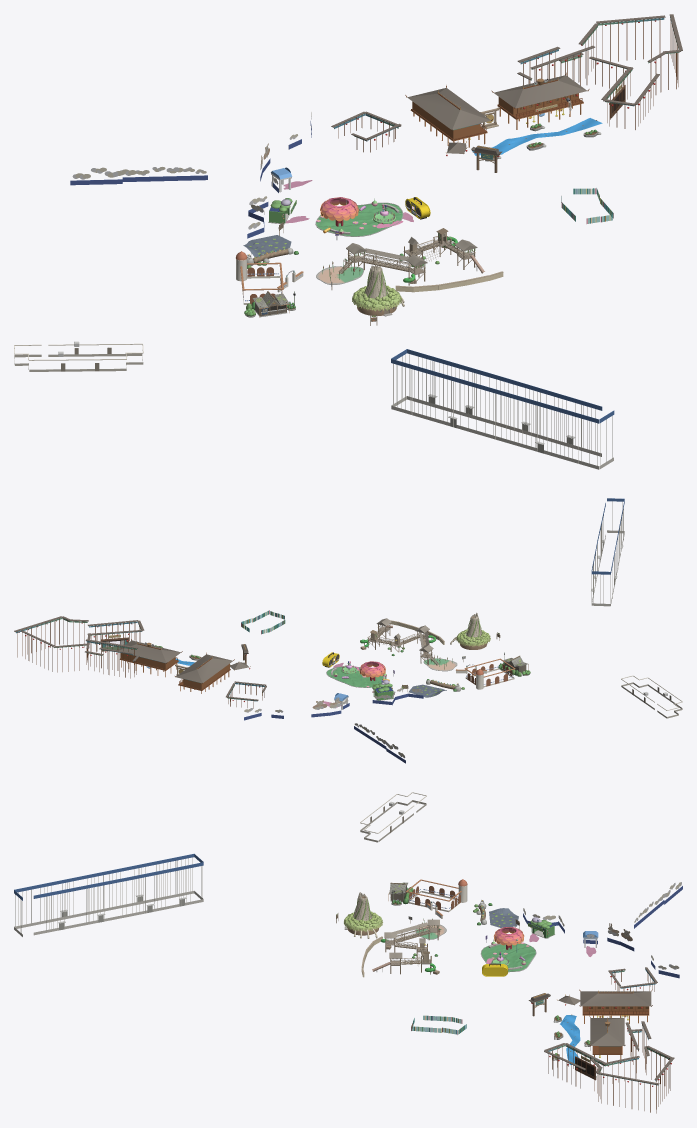
File: dreamworks-play.glb
3 renders of one model, top to bottom at view 1: azimuth 30°, elevation 25°; view 2: azimuth 150°, elevation 25°; view 3: azimuth 270°, elevation 25°, orthographic. The views are drawn at different scales.
Visible parts, largest first — view 1: dreamworks-play-paint, dreamworks-play-concrete, dreamworks-play-rubber, dreamworks-play-gloss, dreamworks-play-plant, dreamworks-play-metal; view 2: dreamworks-play-paint, dreamworks-play-concrete, dreamworks-play-gloss, dreamworks-play-rubber, dreamworks-play-plant, dreamworks-play-metal; view 3: dreamworks-play-paint, dreamworks-play-concrete, dreamworks-play-rubber, dreamworks-play-gloss, dreamworks-play-plant, dreamworks-play-metal.
Part boxes in pixels (x1=…): dreamworks-play-paint: x1=61, y1=14, x2=682, y2=465; dreamworks-play-concrete: x1=14, y1=124, x2=613, y2=469; dreamworks-play-rubber: x1=316, y1=118, x2=602, y2=284; dreamworks-play-gloss: x1=247, y1=97, x2=583, y2=282; dreamworks-play-plant: x1=244, y1=123, x2=597, y2=316; dreamworks-play-metal: x1=58, y1=85, x2=596, y2=463; dreamworks-play-paint: x1=14, y1=498, x2=671, y2=763; dreamworks-play-concrete: x1=154, y1=530, x2=682, y2=718; dreamworks-play-gloss: x1=120, y1=625, x2=459, y2=693; dreamworks-play-rubber: x1=175, y1=658, x2=456, y2=687; dreamworks-play-plant: x1=155, y1=619, x2=530, y2=691; dreamworks-play-metal: x1=178, y1=508, x2=667, y2=700; dreamworks-play-paint: x1=14, y1=806, x2=682, y2=1113; dreamworks-play-concrete: x1=14, y1=792, x2=597, y2=1060; dreamworks-play-rubber: x1=416, y1=925, x2=580, y2=1064; dreamworks-play-gloss: x1=372, y1=900, x2=649, y2=1063; dreamworks-play-plant: x1=344, y1=883, x2=590, y2=1058; dreamworks-play-metal: x1=31, y1=801, x2=598, y2=1058.
Size of the model in its own units: 223 by 13.34 by 201.
